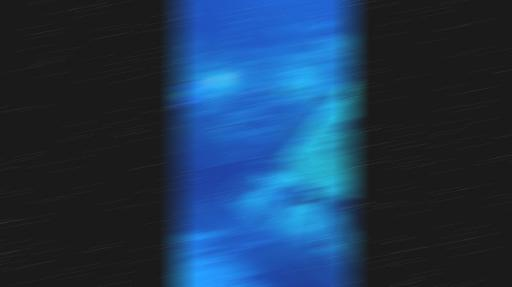Fish: (293, 186, 354, 234), (296, 13, 335, 35), (293, 186, 322, 205), (226, 194, 255, 203), (277, 145, 294, 160), (337, 120, 354, 133), (289, 117, 302, 131), (312, 94, 327, 106), (321, 235, 336, 246), (274, 27, 291, 35), (179, 123, 194, 131), (260, 134, 275, 141), (262, 114, 279, 120), (206, 126, 219, 133), (240, 17, 253, 22), (177, 6, 190, 11), (182, 14, 192, 20), (181, 56, 195, 60), (258, 28, 269, 33), (293, 22, 302, 28), (256, 159, 269, 163), (232, 27, 244, 31), (185, 42, 194, 47), (240, 162, 250, 165), (231, 41, 241, 44), (289, 96, 296, 99)
